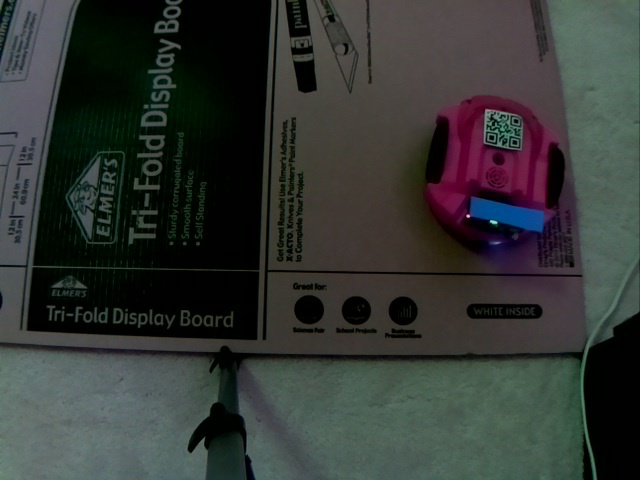chassis: (420, 93, 569, 255)
qr: (481, 107, 525, 151)
